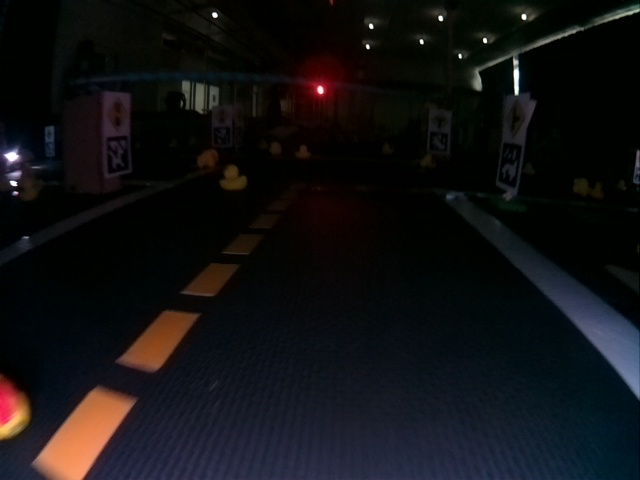Duckie: (219, 165, 247, 189), (297, 147, 307, 157), (270, 144, 280, 154)
Intersection sign: (505, 98, 526, 140), (430, 111, 449, 127)
QR code: (500, 141, 520, 189), (105, 140, 130, 174), (213, 126, 231, 145), (431, 133, 448, 152)
Signal sign: (107, 95, 129, 133), (212, 106, 230, 124)
